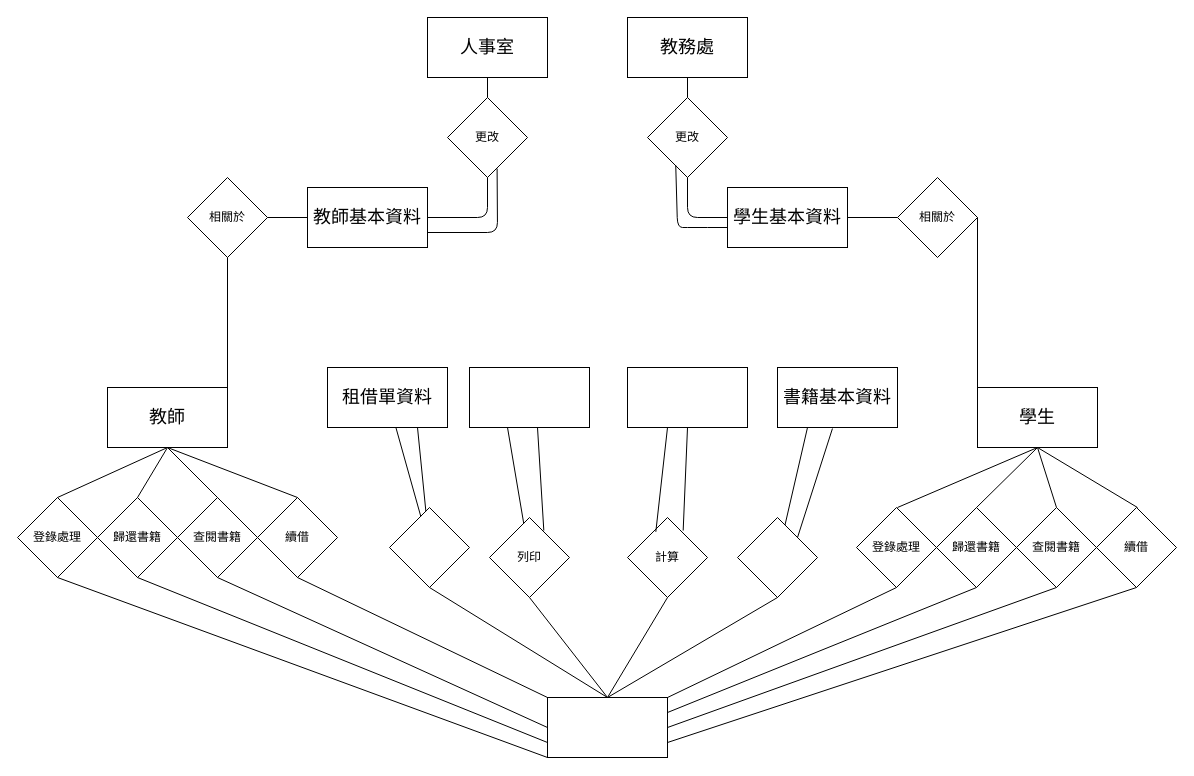
Some shapes in this 1194 by 776 pixel diagram are drawn without their labels. The centre of each missing label's shape, as x and y in pixels:
"圖書館館員" goes at point 607,727.
"查詢" goes at point 777,557.
"歸還單資料" goes at point 529,397.
"記錄" goes at point 429,547.
"逾期資料" goes at point 687,397.
